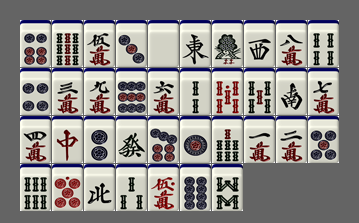0m: (148, 164, 179, 211)
0p: (52, 164, 83, 211)
0s: (212, 68, 243, 115)
1m: (244, 116, 275, 163)
1p: (180, 116, 211, 163)
1s: (212, 20, 243, 67)
1z: (180, 20, 211, 67)
2m: (276, 116, 307, 163)
2p: (84, 116, 115, 163)
2s: (180, 68, 211, 115)
2z: (276, 68, 307, 115)
3m: (52, 68, 83, 115)
3p: (116, 20, 147, 67)
3s: (116, 164, 147, 211)
3z: (244, 20, 275, 67)
4m: (20, 116, 51, 163)
4p: (20, 68, 51, 115)
4s: (308, 20, 339, 67)
4z: (84, 164, 115, 211)
5m: (84, 20, 115, 67)
5p: (308, 116, 339, 163)
5s: (244, 68, 275, 115)
5z: (148, 20, 179, 67)
6m: (148, 68, 179, 115)
6p: (20, 20, 51, 67)
6s: (20, 164, 51, 211)
6z: (116, 116, 147, 163)
7m: (308, 68, 339, 115)
7p: (148, 116, 179, 163)
7s: (212, 116, 243, 163)
7z: (52, 116, 83, 163)
8m: (276, 20, 307, 67)
8p: (180, 164, 211, 211)
8s: (212, 164, 243, 211)
9m: (84, 68, 115, 115)
9p: (116, 68, 147, 115)
9s: (52, 20, 83, 67)
